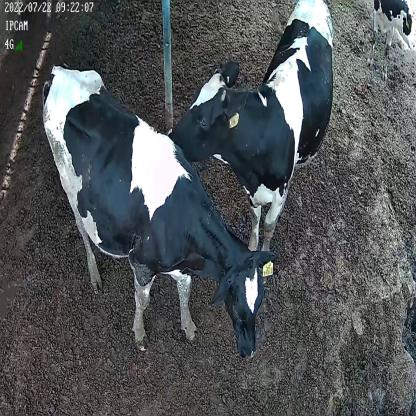cow: (38, 58, 276, 364), (166, 0, 336, 260)
